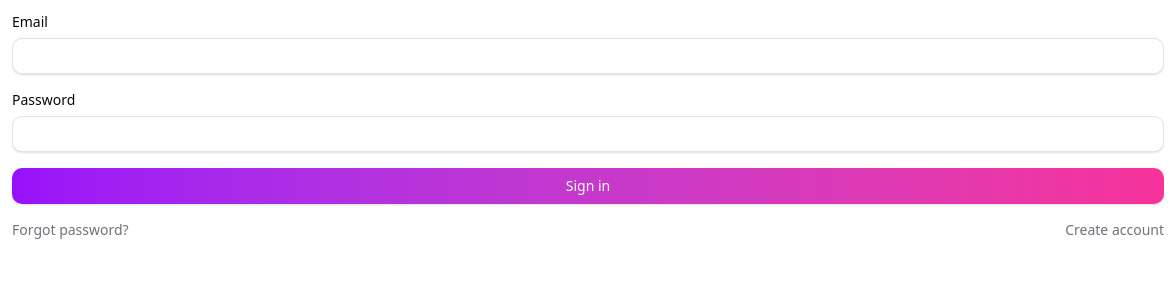
Scenario: LoginForm › shows a validation error for a malformed email
Type "not-an-email" into the field labelled "Email" at (588,56), box [12,38,1164,74]
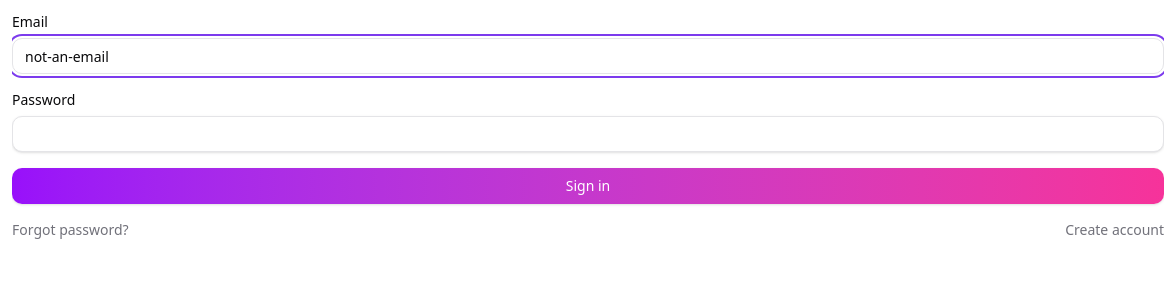
Type "password123" into the password field labelled "Password" at (588,134), box [12,116,1164,152]
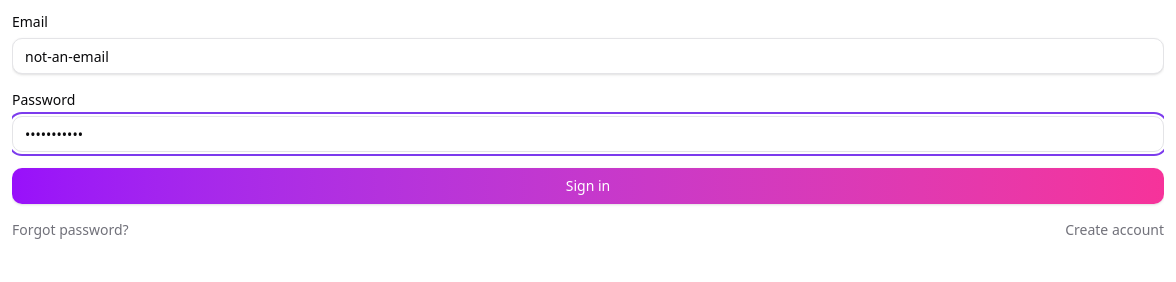
Click the button "Sign in" at (588,186), box [12,168,1164,204]
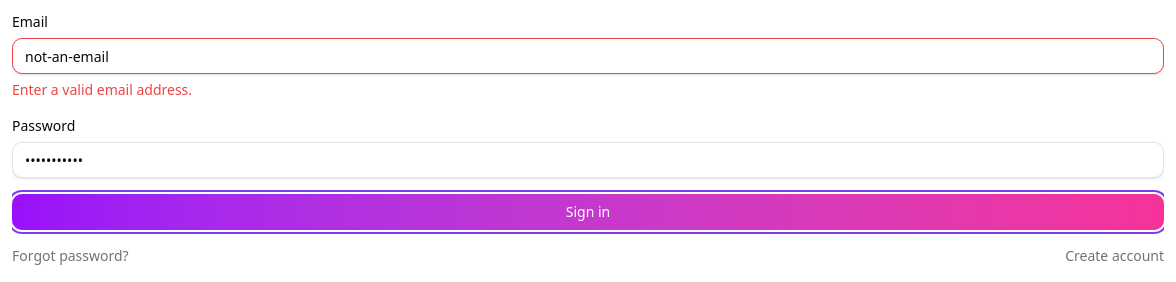
Expected: the text "Enter a valid email address." is shown, [12,80,192,99]
